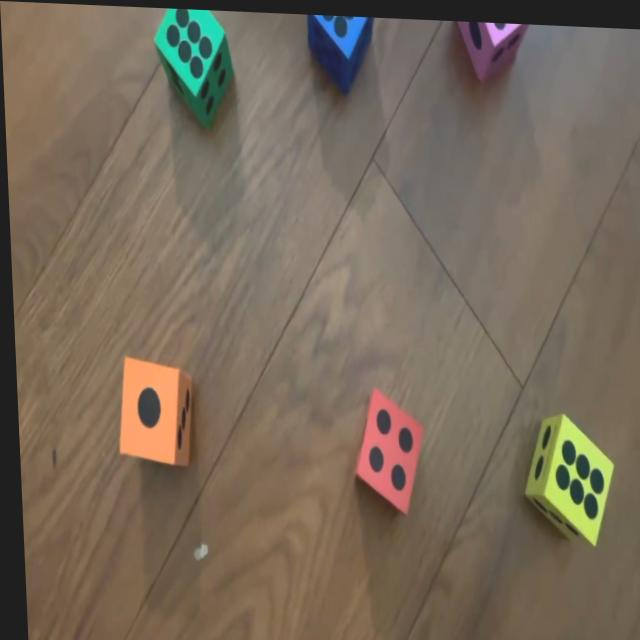blue_block: (307, 11, 376, 88)
red_block: (348, 384, 424, 511)
